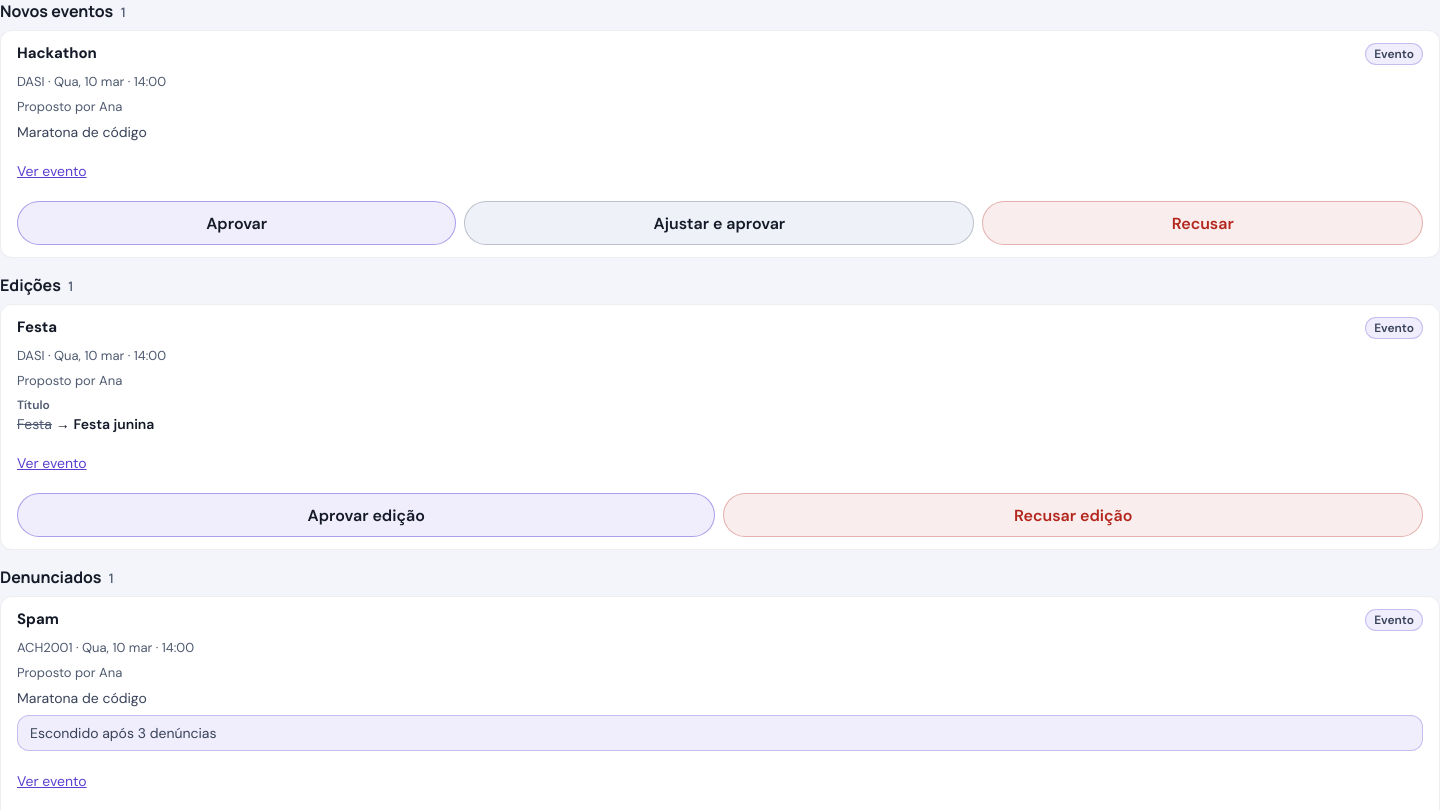
Test: ReviewQueue › desabilita os botões enquanto o pedido está em andamento
expect the element "Hackathon" is shown: met, box [0, 30, 1439, 258]
Click the button "Aprovar" at (237, 223), box [17, 201, 456, 245]
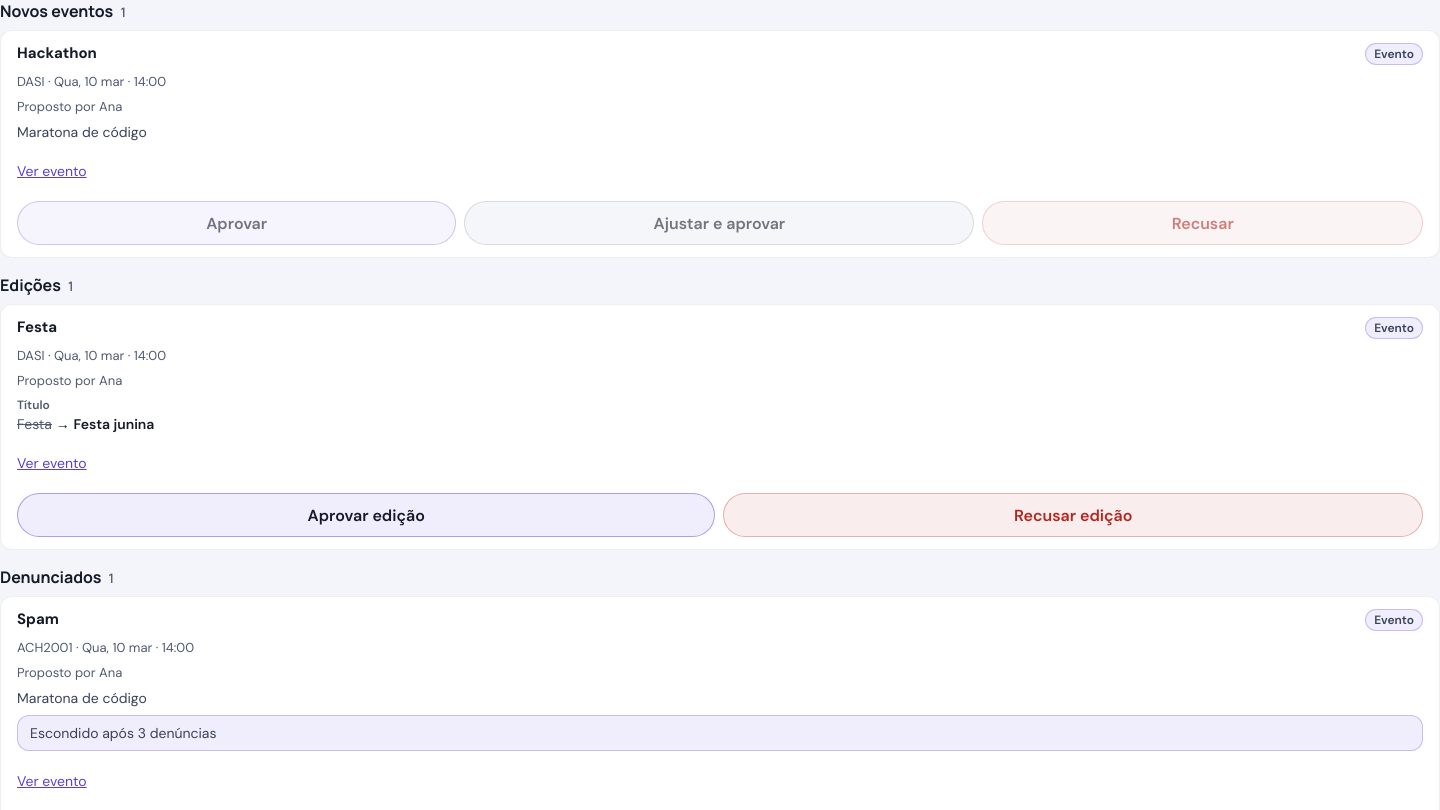
expect the button "Aprovar" is disabled: met
expect the button "Recusar" is disabled: met, box [982, 201, 1423, 245]
Click the button "Aprovar" at (237, 223), box [17, 201, 456, 245]
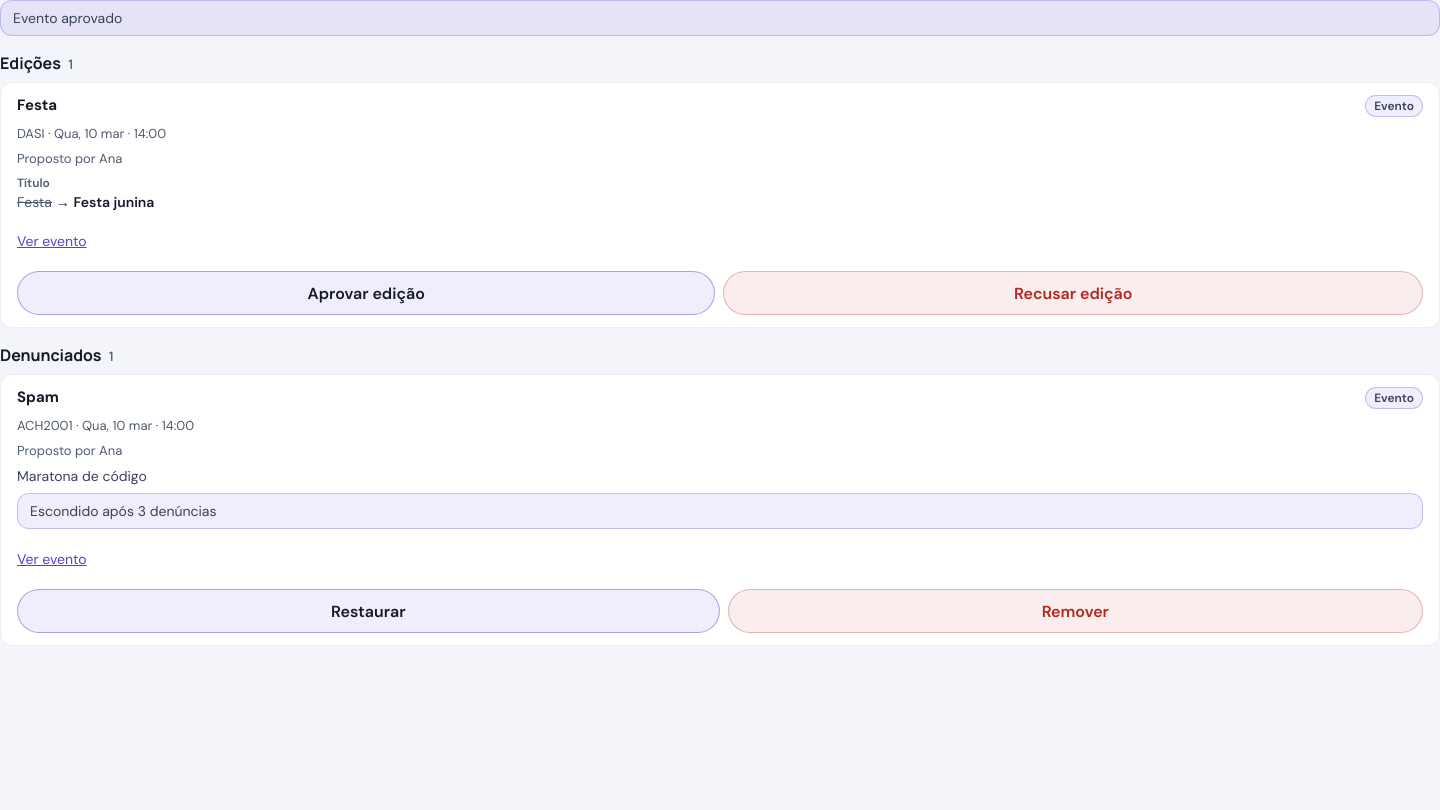
expect the heading "Hackathon" is gone: met
